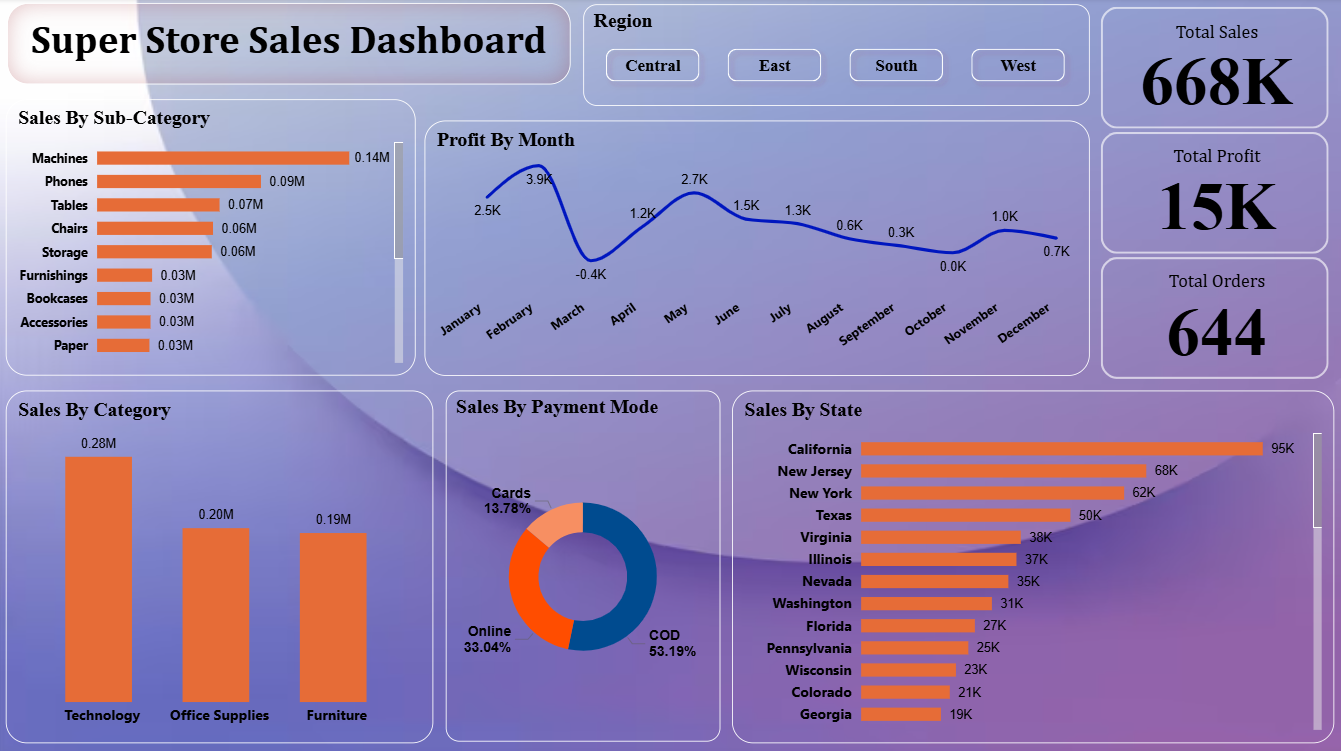

Layout of this report page (visuals, bound fields, positions):
{"tool":"powerbi","page":{"name":"Page 1","canvas":[1280,720],"ordinal":0},"visuals":[{"type":"clusteredColumnChart","title":"Sales By Category","fields":{"Category":["SuperStore_Sales_Dataset.Category"],"Y":["Sum(SuperStore_Sales_Dataset.Revenue)"]},"box":[8.3,373.8,407.1,335.7],"z":0},{"type":"barChart","title":"Top Performing Sub-Categories by Sales","fields":{"Category":["SuperStore_Sales_Dataset.Sub-Category"],"Y":["Sum(SuperStore_Sales_Dataset.Revenue)"]},"box":[8.3,96.4,390.5,263.1],"z":3000},{"type":"lineChart","title":"Profit By Month","fields":{"Category":["SuperStore_Sales_Dataset.Order Date.Variation.Date Hierarchy.Month"],"Y":["Sum(SuperStore_Sales_Dataset.Profit)"]},"box":[407.1,116.7,633.3,242.9],"z":4000},{"type":"barChart","title":"Sales By State","fields":{"Category":["SuperStore_Sales_Dataset.State"],"Y":["Sum(SuperStore_Sales_Dataset.Revenue)"]},"box":[700,373.8,573.8,335.7],"z":5000},{"type":"donutChart","title":"Sales By Payment Mode","fields":{"Category":["SuperStore_Sales_Dataset.Payment Mode"],"Y":["Sum(SuperStore_Sales_Dataset.Revenue)"]},"box":[427.4,373.8,261.9,334.5],"z":7000},{"type":"textbox","box":[9.5,4.8,536.9,77.4],"z":8000},{"type":"advancedSlicerVisual","title":"Select Region","fields":{"Values":["SuperStore_Sales_Dataset.Region"]},"box":[558.3,6,482.1,96.4],"z":9000},{"type":"cardVisual","fields":{"Data":["SuperStore_Sales_Dataset.Total Sales","SuperStore_Sales_Dataset.Total Profit","SuperStore_Sales_Dataset.Total Orders"]},"box":[1046.4,3.6,227.4,364.3],"z":10000}]}

Visuals, with their boxes in screenshot pixels (x1, y1, x2, y2), scaled from the page's 1280x720 canvas onto the 1341x751 screenshot:
"Sales By Category" clusteredColumnChart: crop(9, 390, 435, 740)
"Top Performing Sub-Categories by Sales" barChart: crop(9, 101, 418, 375)
"Profit By Month" lineChart: crop(427, 122, 1090, 375)
"Sales By State" barChart: crop(733, 390, 1335, 740)
"Sales By Payment Mode" donutChart: crop(448, 390, 722, 739)
textbox: crop(10, 5, 572, 86)
"Select Region" advancedSlicerVisual: crop(585, 6, 1090, 107)
cardVisual - SuperStore_Sales_Dataset.Total Sales x SuperStore_Sales_Dataset.Total Profit: crop(1096, 4, 1335, 384)
